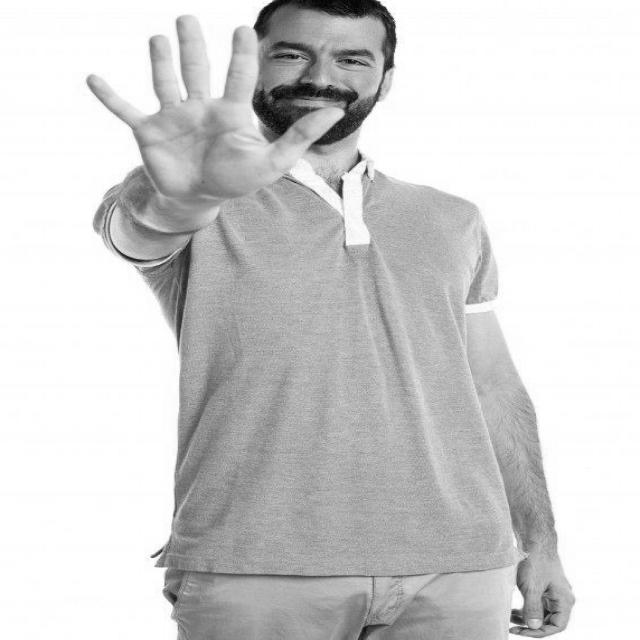stop: (75, 5, 354, 212)
